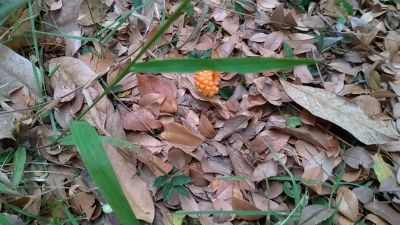eggs: (191, 64, 223, 99)
